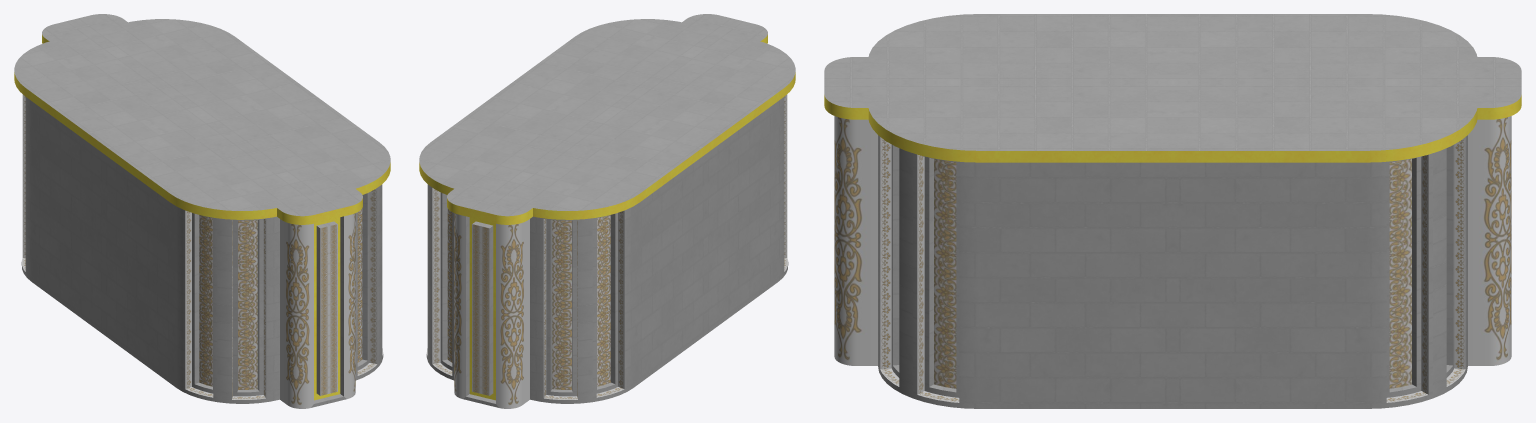
Rendered from SM_wall_module_round_02.glb.
The picture shows the model from 3 angles, left to right: view 1: azimuth 30°, elevation 25°; view 2: azimuth 150°, elevation 25°; view 3: azimuth 270°, elevation 25°; orthographic projection. The views are drawn at different scales.
Visible parts, largest first — view 1: SM_wall_module_round_02; view 2: SM_wall_module_round_02; view 3: SM_wall_module_round_02.
Part boxes in pixels (left/top/right/bottom): SM_wall_module_round_02: left=14, top=14, right=390, bottom=408; SM_wall_module_round_02: left=419, top=14, right=795, bottom=408; SM_wall_module_round_02: left=824, top=14, right=1521, bottom=408.
Bounding box in the file's own units: 5.86 × 5.23 × 12.6.
4 materials, 4 textured.
